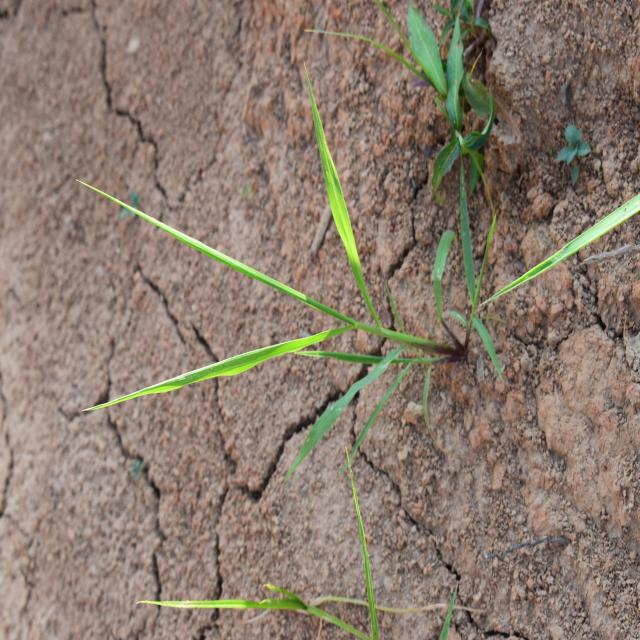green_foxtail: (109, 187, 541, 452)
